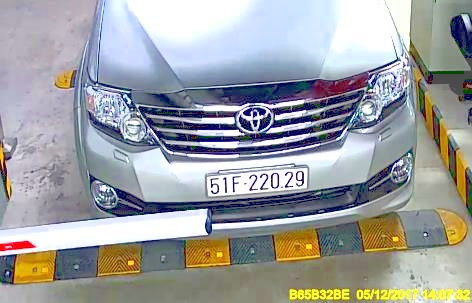plate: (203, 167, 308, 196)
